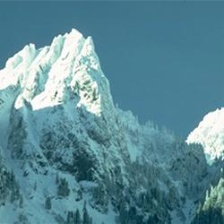neutral: (122, 148, 224, 223)
